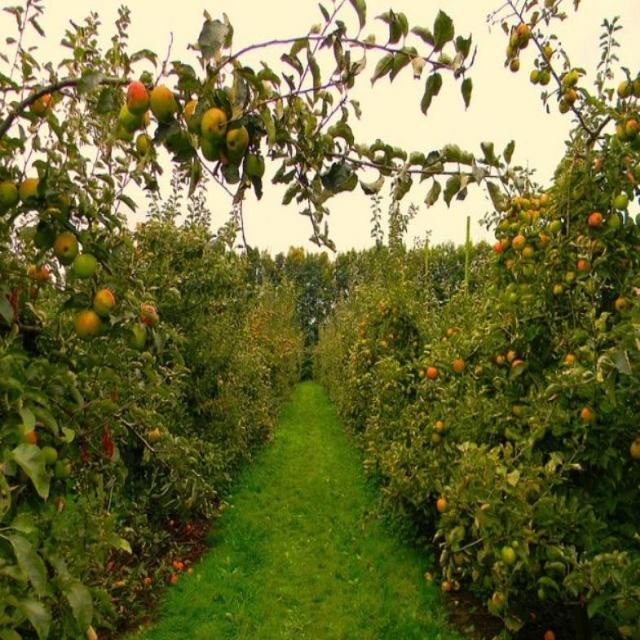row: (87, 382, 508, 640)
